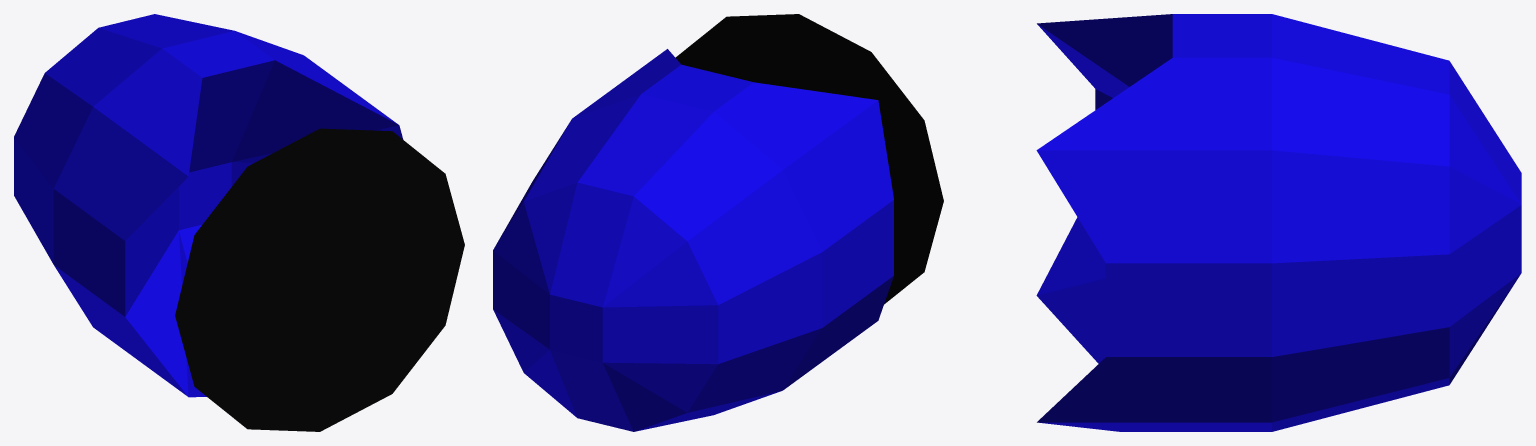
The model's file is EnemyBlue.fbx.
3 views of the same model, side by side, from view 1: azimuth 30°, elevation 25°; view 2: azimuth 150°, elevation 25°; view 3: azimuth 270°, elevation 25° (orthographic). The views are drawn at different scales.
Parts seen in each view (by area): view 1: Cube; view 2: Cube; view 3: Cube.
Part boxes in pixels (left/top/right/bottom): Cube: left=14, top=14, right=464, bottom=431; Cube: left=493, top=14, right=943, bottom=431; Cube: left=1036, top=14, right=1521, bottom=431.
Size of the model in its own units: 0.5318 by 0.5318 by 0.7073.
